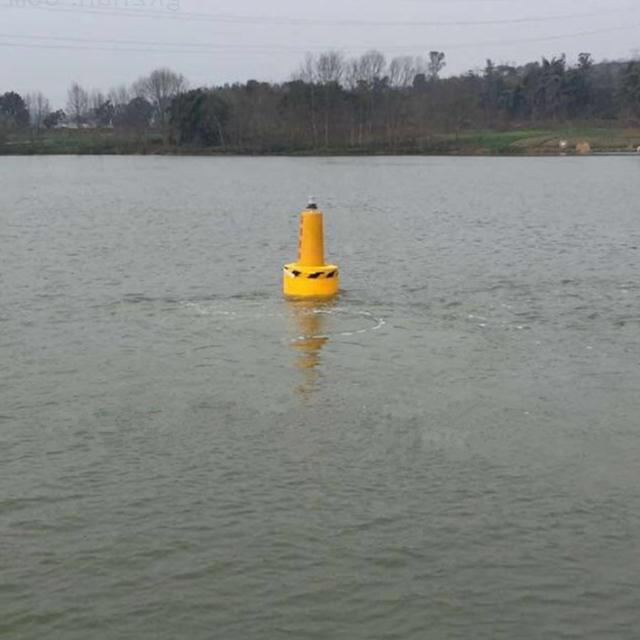buoy: (280, 195, 344, 294)
